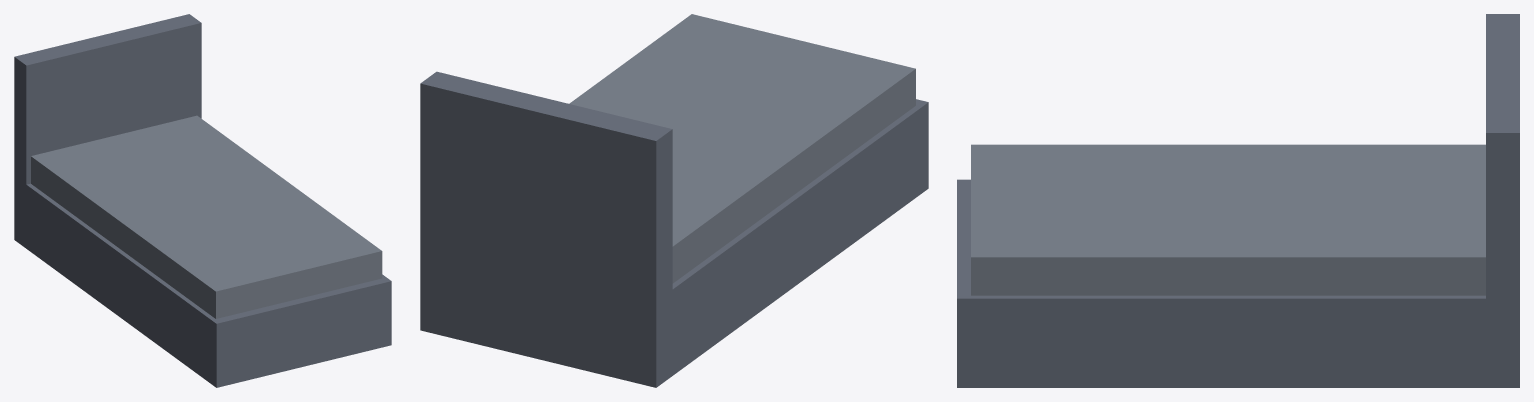
File: sofa.glb
The picture shows the model from 3 angles, left to right: view 1: azimuth 30°, elevation 25°; view 2: azimuth 150°, elevation 25°; view 3: azimuth 270°, elevation 25°; orthographic projection. The views are drawn at different scales.
Size of the model in its own units: 1 by 1 by 2.
